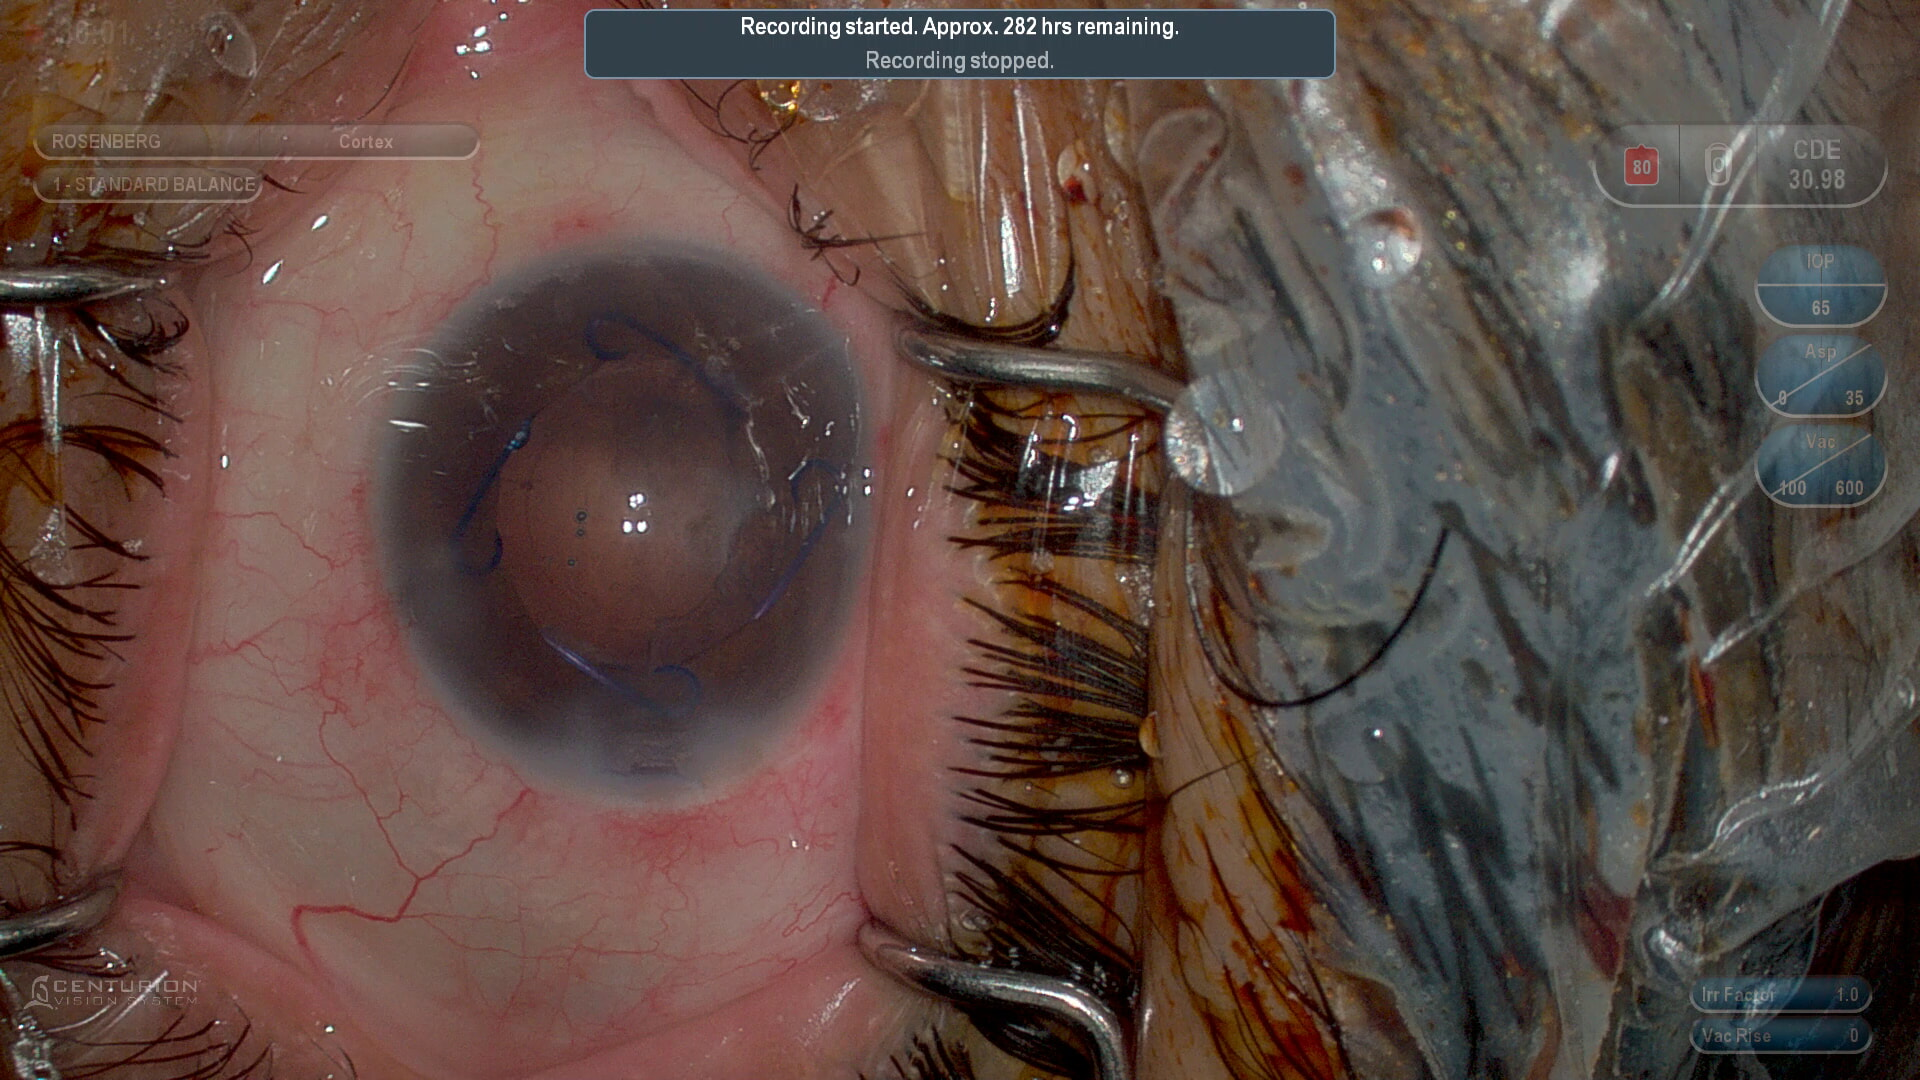iris: (405, 256, 859, 743)
pupil: (498, 351, 783, 670)
